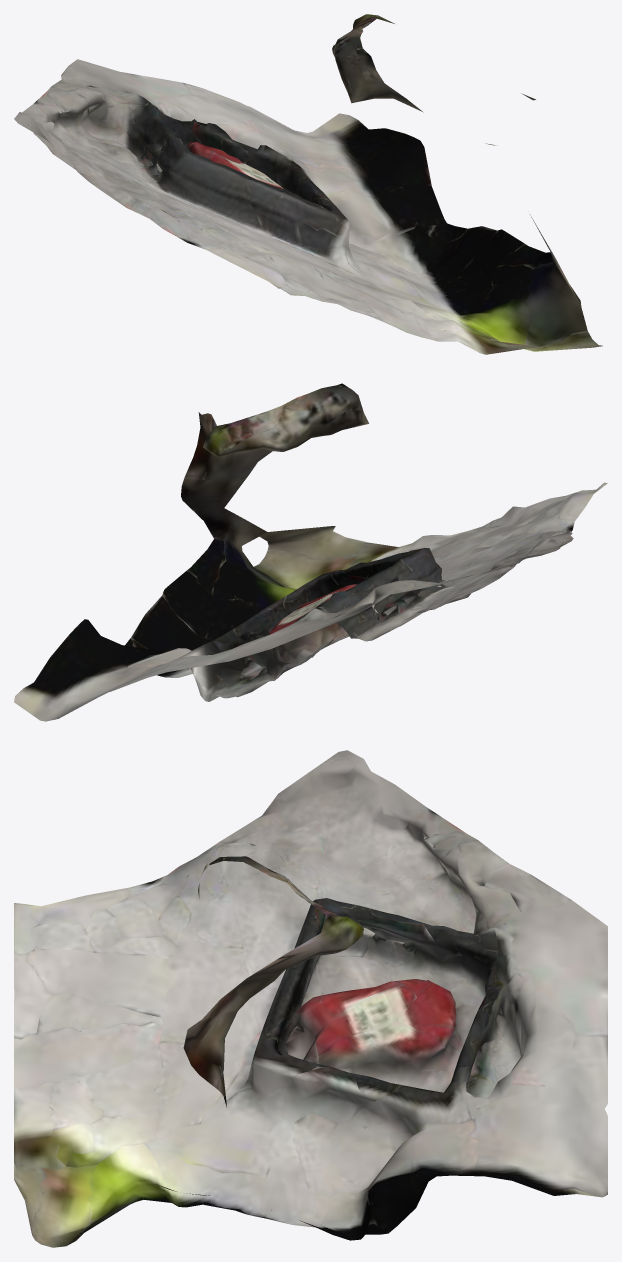
Rendered from hall.glb.
The picture shows the model from 3 angles, top to bottom: view 1: azimuth 30°, elevation 25°; view 2: azimuth 150°, elevation 25°; view 3: azimuth 270°, elevation 25°; orthographic projection. The views are drawn at different scales.
Bounding box in the file's own units: 1.74 × 1.06 × 1.82.
Materials: 1 (1 with a texture image).
